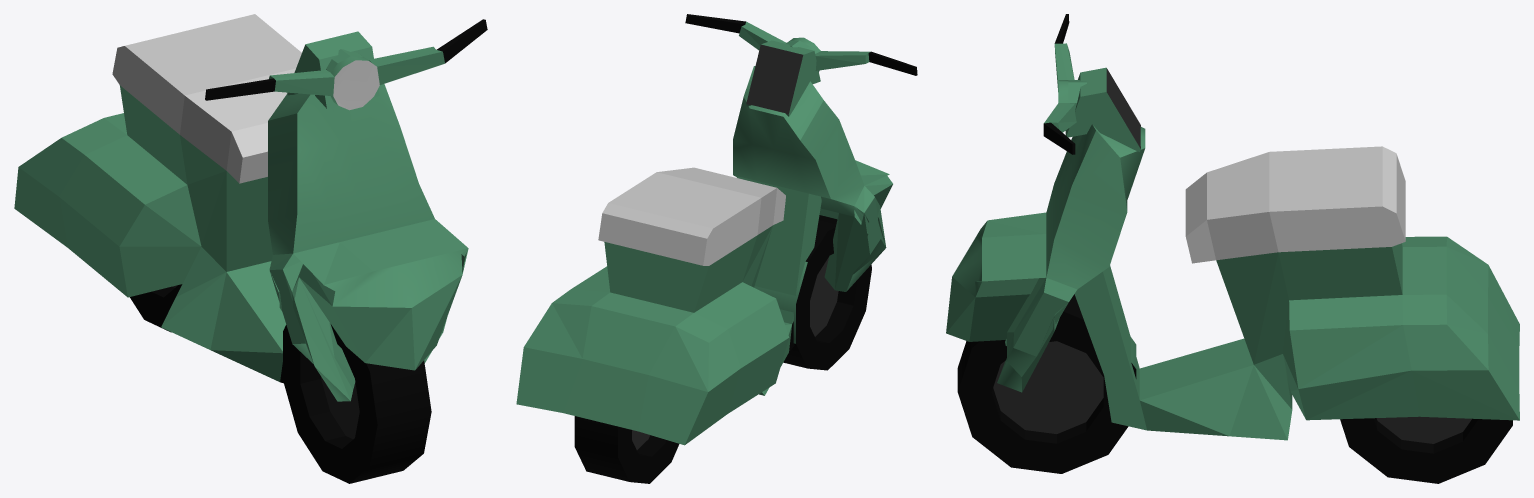
The model's file is Scooter.fbx.
The picture shows the model from 3 angles, left to right: view 1: azimuth 30°, elevation 25°; view 2: azimuth 150°, elevation 25°; view 3: azimuth 270°, elevation 25°; orthographic projection. The views are drawn at different scales.
Visible parts, largest first — view 1: Box001; view 2: Box001; view 3: Box001.
Boxes of the visible parts, bbox=[...] form: Box001: bbox=[14, 14, 487, 483]; Box001: bbox=[516, 14, 917, 483]; Box001: bbox=[946, 14, 1519, 483].
Bounding box in the file's own units: 95.6 × 131 × 177.
